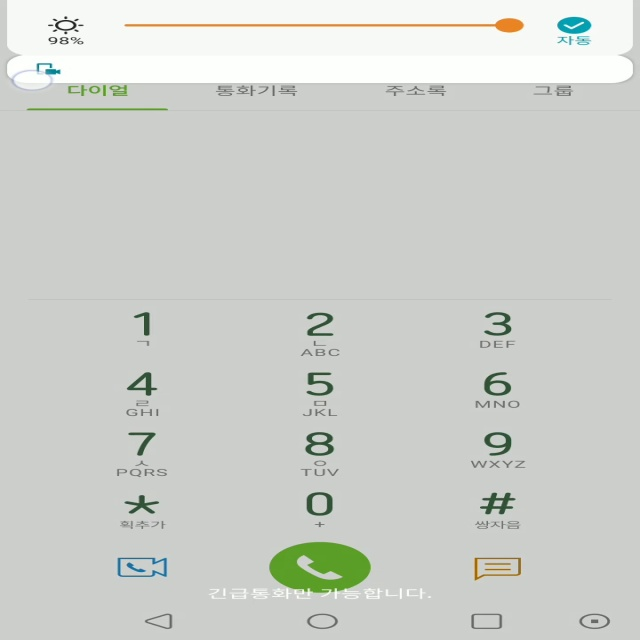Cursor: (11, 70, 56, 92)
